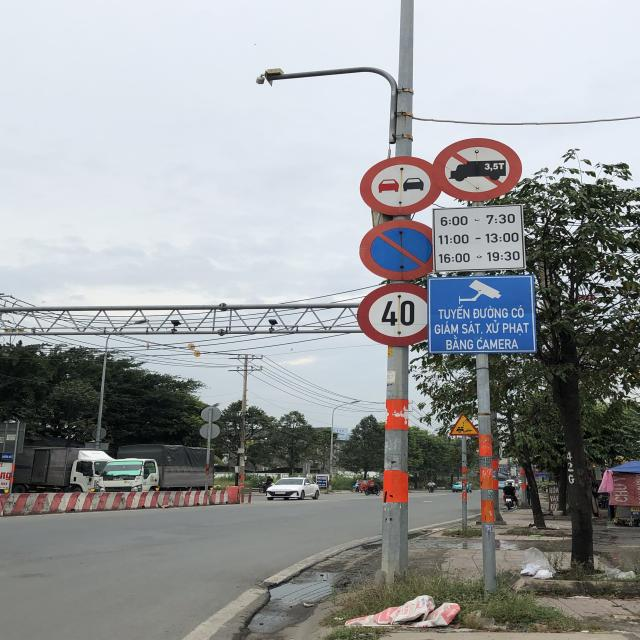Bien bao cam vuot: (359, 153, 443, 216)
